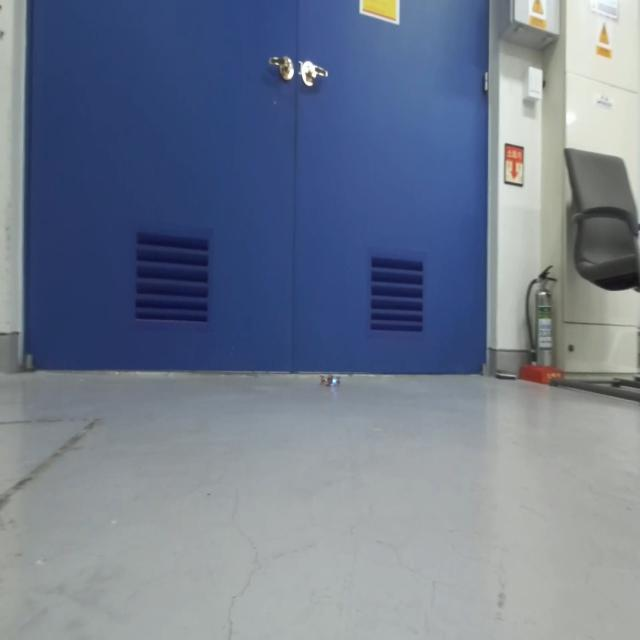crazyflie: (318, 369, 345, 392)
